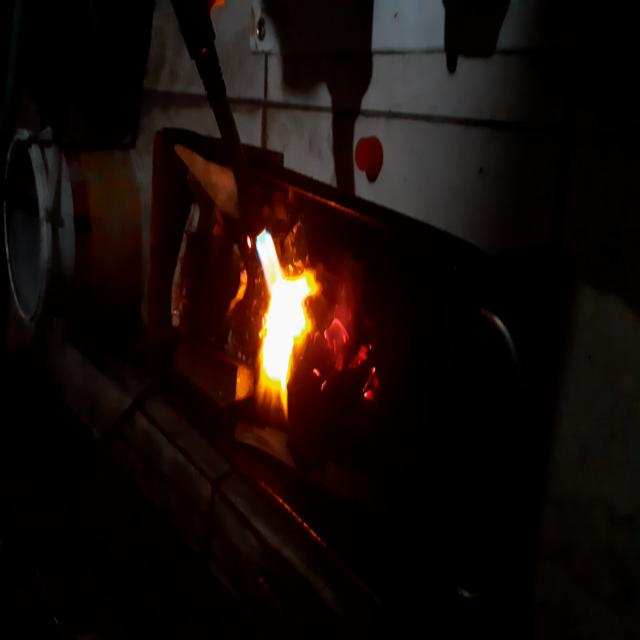Fire: (242, 222, 322, 429), (327, 297, 381, 425)
